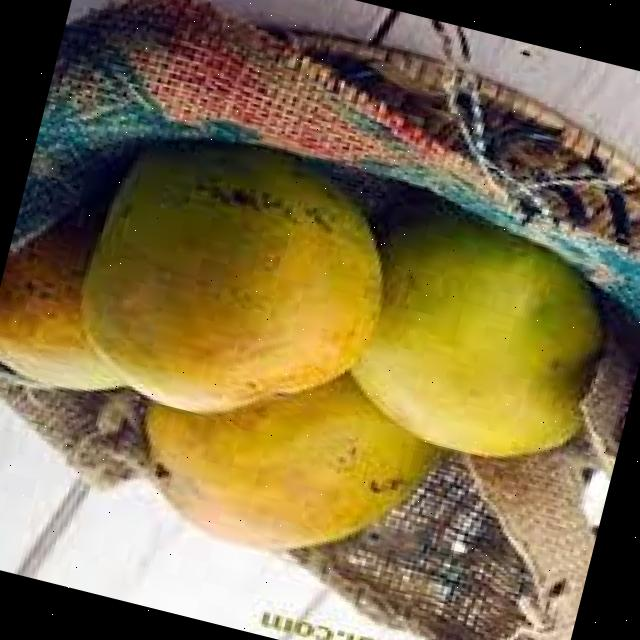mango: (79, 136, 383, 406)
